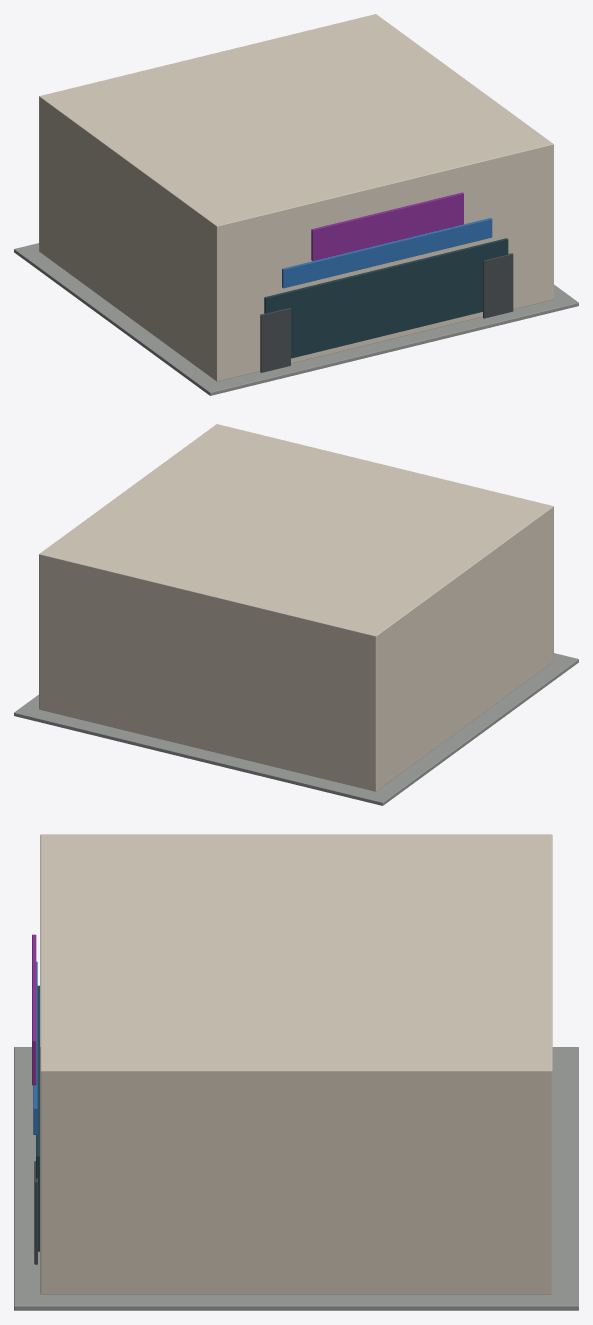
The model's file is Building_Commercial_009.glb.
The picture shows the model from 3 angles, top to bottom: view 1: azimuth 30°, elevation 25°; view 2: azimuth 150°, elevation 25°; view 3: azimuth 270°, elevation 25°; orthographic projection. The views are drawn at different scales.
Visible parts, largest first — view 1: Building_Commercial_009; view 2: Building_Commercial_009; view 3: Building_Commercial_009.
Part boxes in pixels (x1,y1,x2,y2): Building_Commercial_009: (14,14,578,395); Building_Commercial_009: (14,424,578,805); Building_Commercial_009: (14,834,578,1310).
Bounding box in the file's own units: 17.36 × 7.16 × 16.
